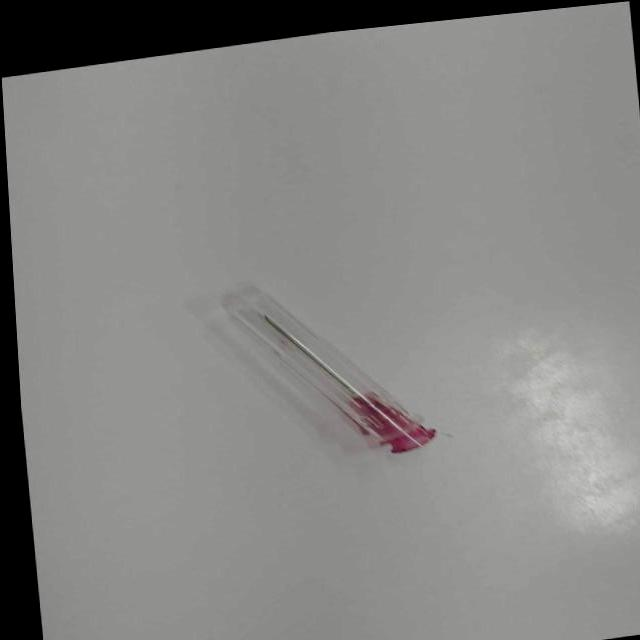Pathological: (4, 2, 639, 637)
Sharps: (222, 283, 443, 455)
